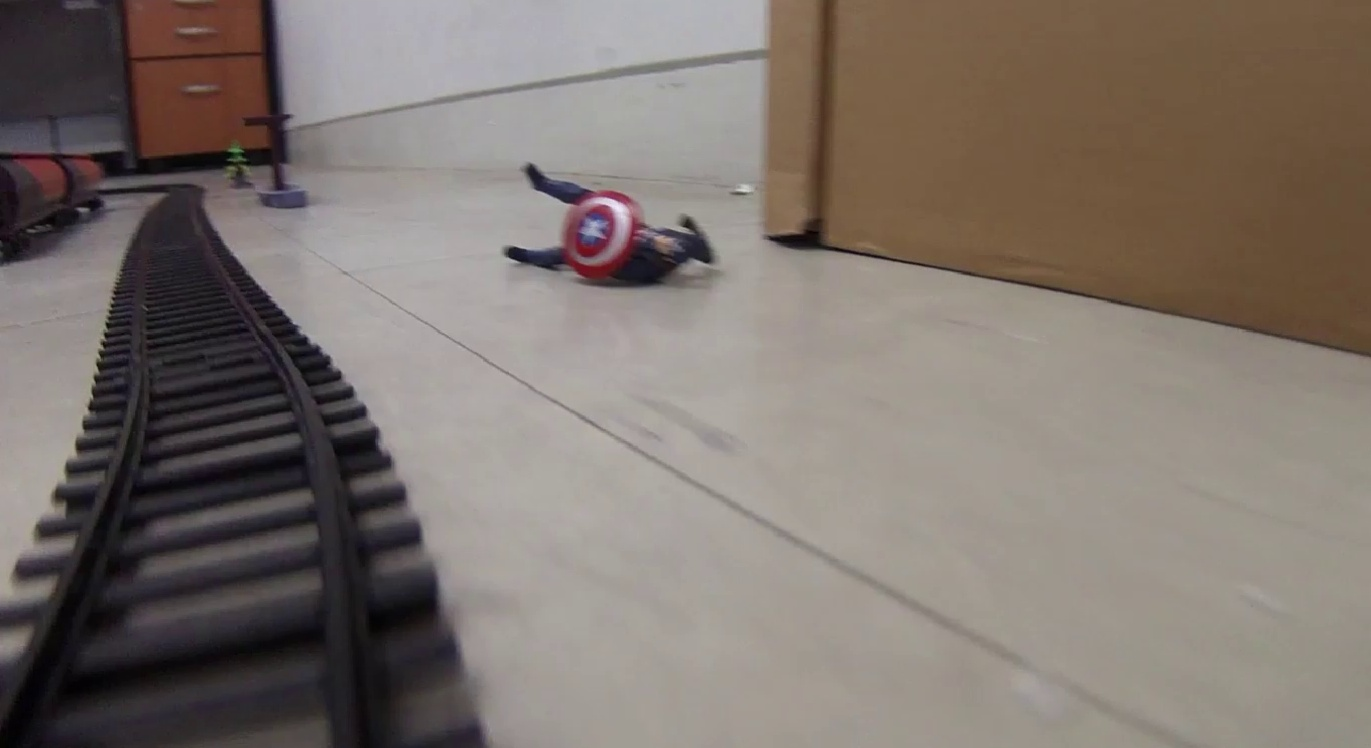people: (501, 162, 719, 286)
